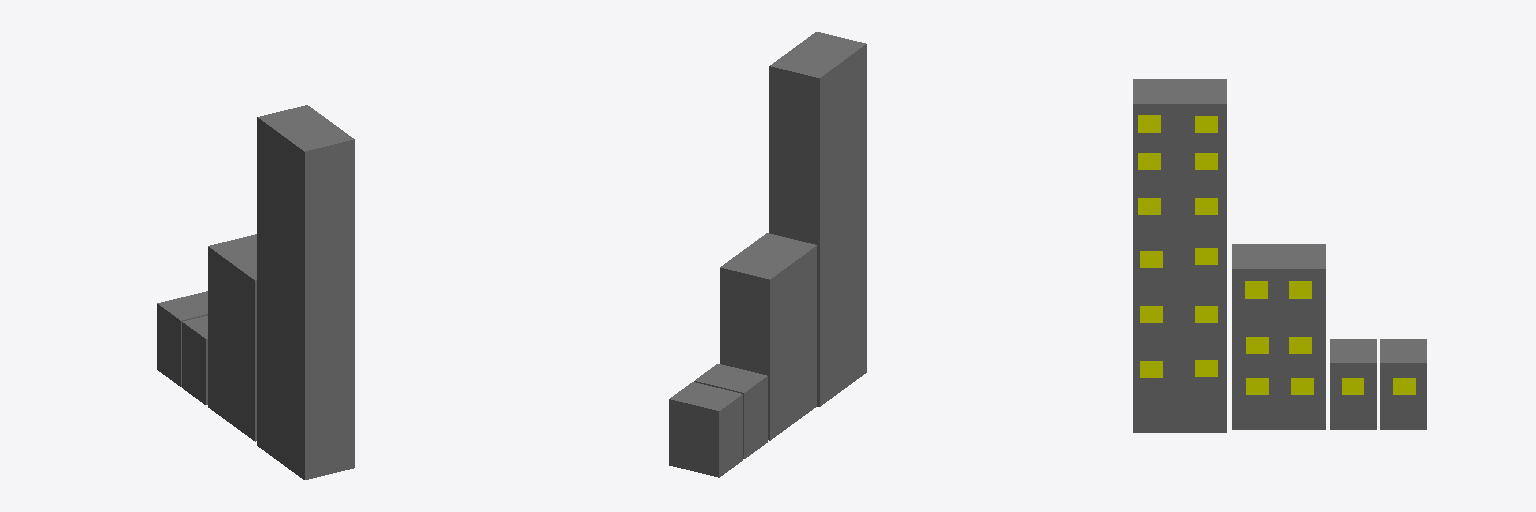
The model's file is Buildings.obj.
The picture shows the model from 3 angles: view 1: azimuth 30°, elevation 25°; view 2: azimuth 150°, elevation 25°; view 3: azimuth 270°, elevation 25°; orthographic projection.
Visible parts, largest first — view 1: pCube13, pCube14, pCube16, pCube15; view 2: pCube13, pCube14, pCube16, pCube15; view 3: pCube13, pCube14, pCube15, pCube16.
Part boxes in pixels (left/top/right/bottom): pCube13: left=257, top=105, right=354, bottom=479; pCube14: left=208, top=234, right=256, bottom=441; pCube16: left=157, top=291, right=207, bottom=386; pCube15: left=182, top=316, right=207, bottom=404; pCube13: left=769, top=32, right=866, bottom=406; pCube14: left=720, top=233, right=816, bottom=440; pCube16: left=669, top=382, right=742, bottom=477; pCube15: left=694, top=364, right=767, bottom=458; pCube13: left=1133, top=79, right=1226, bottom=432; pCube14: left=1232, top=244, right=1325, bottom=429; pCube15: left=1330, top=339, right=1376, bottom=429; pCube16: left=1380, top=339, right=1426, bottom=429.
Size of the model in its own units: 4.86 by 30.34 by 24.65.